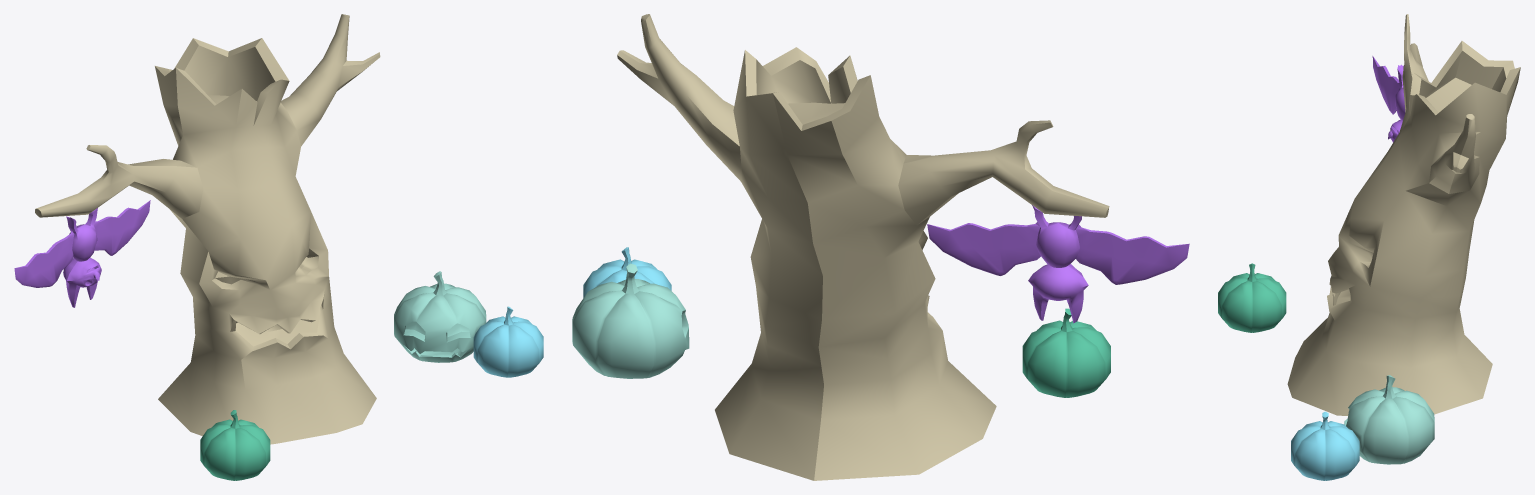
3 views of the same model, side by side, from view 1: azimuth 30°, elevation 25°; view 2: azimuth 150°, elevation 25°; view 3: azimuth 270°, elevation 25° (orthographic). The views are drawn at different scales.
Visible parts, largest first — view 1: split_parent_2, Pumpkin02.001_0, split_parent_5, Pumpkin01.002_0, Pumpkin01.001_0; view 2: split_parent_2, split_parent_5, Pumpkin02.001_0, Pumpkin01.001_0, Pumpkin01.002_0; view 3: split_parent_2, Pumpkin02.001_0, Pumpkin01.002_0, Pumpkin01.001_0, split_parent_5.
Boxes of the visible parts, <box> form: split_parent_2: <box>35,14,380,444</box>; Pumpkin02.001_0: <box>394,271,486,362</box>; split_parent_5: <box>14,200,150,307</box>; Pumpkin01.002_0: <box>473,306,543,377</box>; Pumpkin01.001_0: <box>200,410,270,480</box>; split_parent_2: <box>617,14,1109,480</box>; split_parent_5: <box>927,205,1189,323</box>; Pumpkin02.001_0: <box>572,263,689,378</box>; Pumpkin01.001_0: <box>1022,308,1110,397</box>; Pumpkin01.002_0: <box>583,247,671,297</box>; split_parent_2: <box>1287,14,1520,415</box>; Pumpkin02.001_0: <box>1344,375,1434,464</box>; Pumpkin01.002_0: <box>1291,411,1359,480</box>; Pumpkin01.001_0: <box>1218,263,1286,332</box>; split_parent_5: <box>1372,56,1405,142</box>.
Size of the model in its own units: 1 by 0.6215 by 0.5363.
